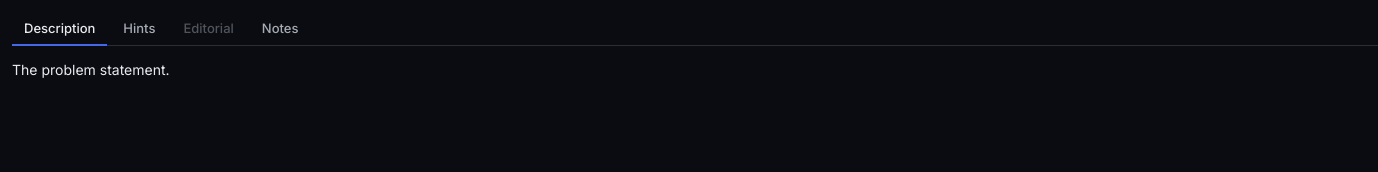
Test: Tabs › activates a tab on click
The image size is (1378, 172).
Click the tab "Notes": (280,29) [250,12,310,46]
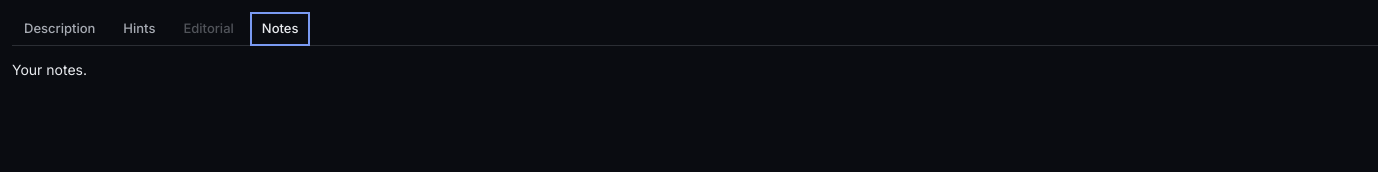
Expected: the text "Your notes." is shown, [12,61,87,78]
